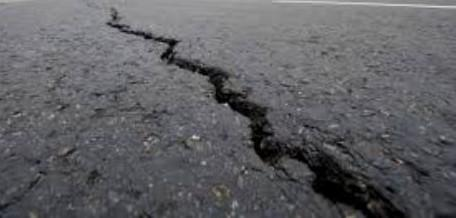crack: (102, 6, 414, 217)
